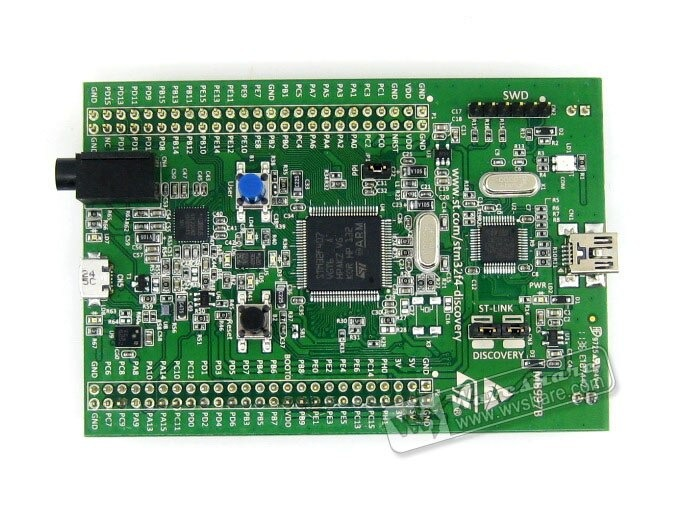STM32F4-DISC: (30, 69, 631, 457)
